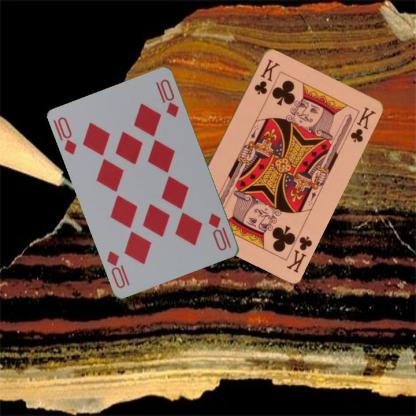10d: (206, 210, 233, 252), (51, 114, 78, 156)
Kc: (283, 233, 314, 274), (251, 56, 281, 96)
